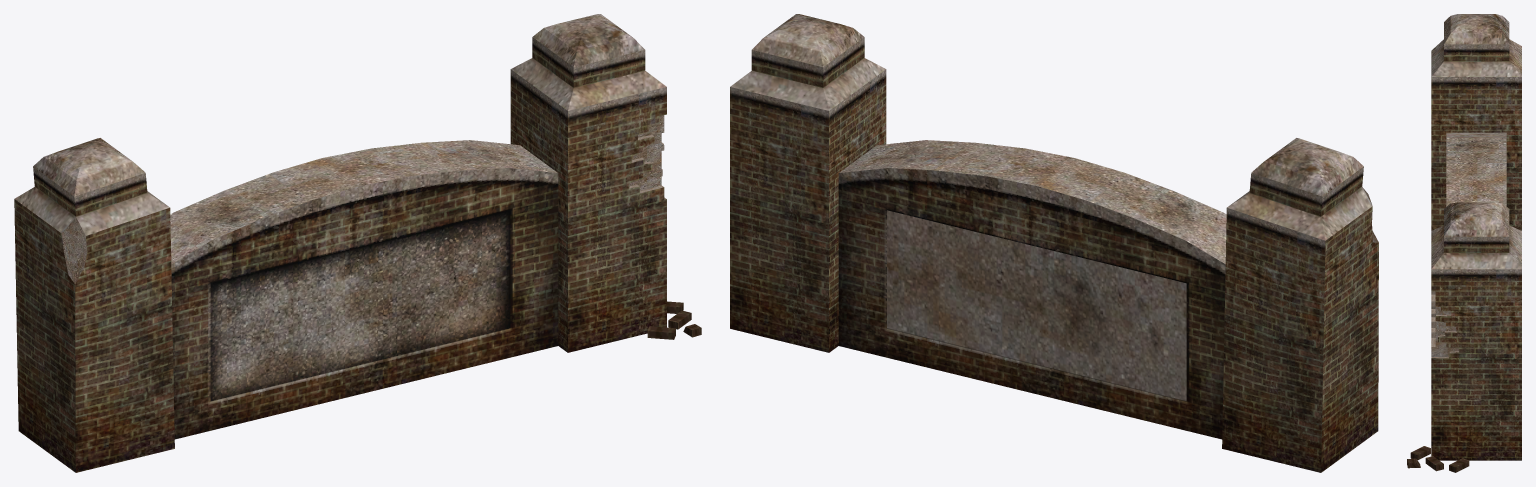
Rendered from nsign_barrens.fbx.
3 views of the same model, side by side, from view 1: azimuth 30°, elevation 25°; view 2: azimuth 150°, elevation 25°; view 3: azimuth 270°, elevation 25° (orthographic). The views are drawn at different scales.
Parts seen in each view (by area): view 1: mesh_0; view 2: mesh_0; view 3: mesh_0.
Boxes of the visible parts, x1=… form: mesh_0: x1=14, y1=14, x2=701, y2=472; mesh_0: x1=730, y1=14, x2=1378, y2=472; mesh_0: x1=1407, y1=14, x2=1521, y2=472.
Size of the model in its own units: 380 by 172 by 76.13.
1 material, 1 textured.
